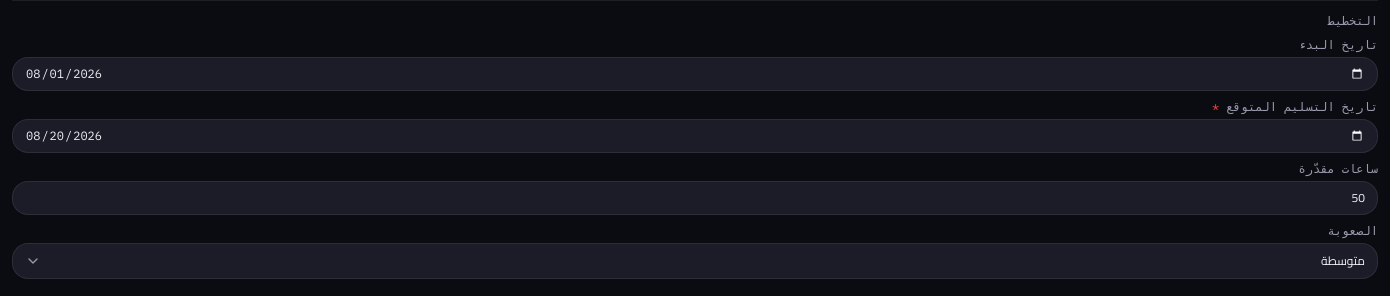
Test: TicketPlanPanel › shows an inline saved hint instead of a toast
Step 1. Type "2026-09-01" into the date field named "تاريخ البدء" → [695, 74], box [12,57,1378,91]
Wait 400 ms
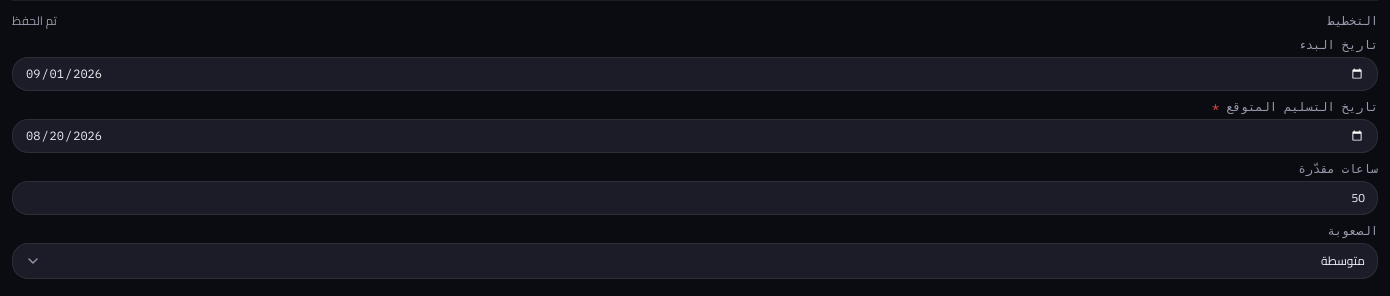
Result: the text "تم الحفظ" is shown at [12,13,57,29]
